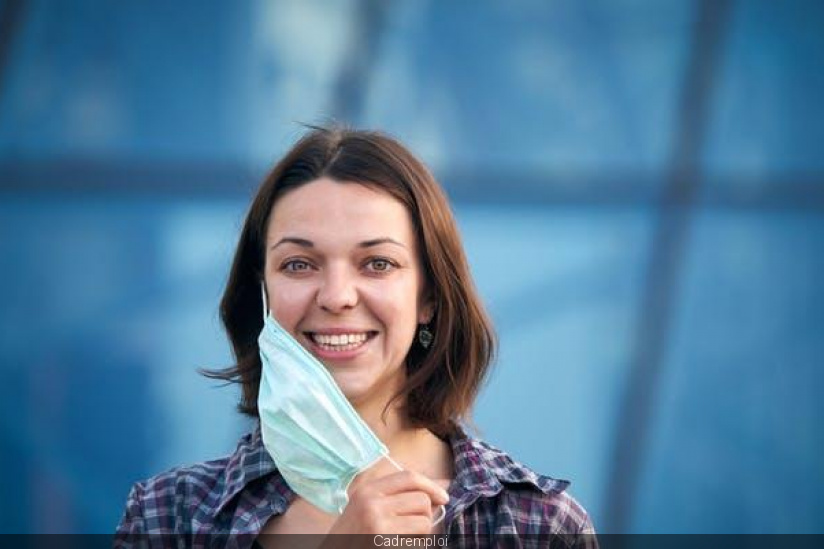with_incorrect_mask: (270, 228, 414, 476)
